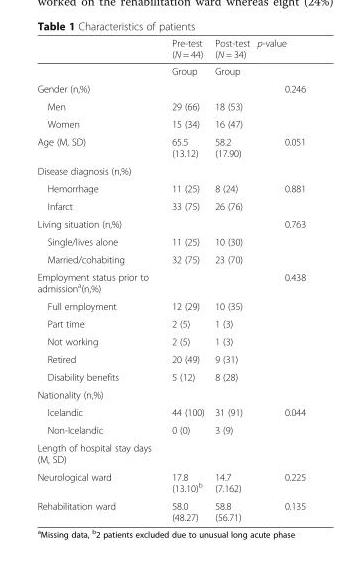table: (36, 37, 304, 522)
table column: (36, 37, 160, 522), (252, 37, 304, 522), (160, 37, 208, 522), (208, 37, 252, 522)
table column header: (36, 37, 304, 62)
table projected row header: (36, 438, 304, 467), (36, 161, 304, 179), (36, 385, 304, 403)
table row: (36, 132, 304, 161), (36, 267, 304, 296), (36, 438, 304, 467), (36, 467, 304, 496), (36, 496, 304, 522), (36, 37, 304, 62), (36, 79, 304, 97), (36, 114, 304, 132), (36, 161, 304, 179), (36, 179, 304, 197), (36, 214, 304, 232), (36, 232, 304, 250), (36, 296, 304, 314), (36, 314, 304, 332), (36, 332, 304, 350), (36, 367, 304, 385), (36, 385, 304, 403), (36, 420, 304, 438), (36, 62, 304, 79), (36, 97, 304, 114), (36, 197, 304, 214), (36, 250, 304, 267), (36, 350, 304, 367), (36, 403, 304, 420)
